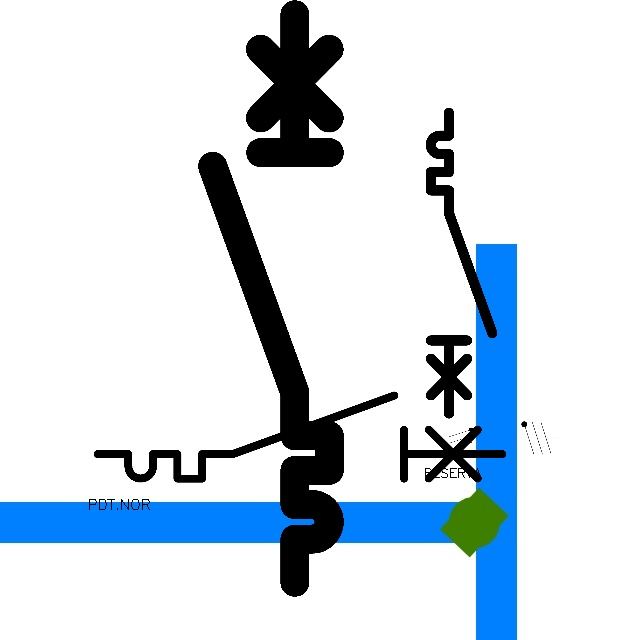interruptor_termomagnetico: (198, 0, 344, 597), (87, 385, 513, 489), (423, 105, 500, 421)
